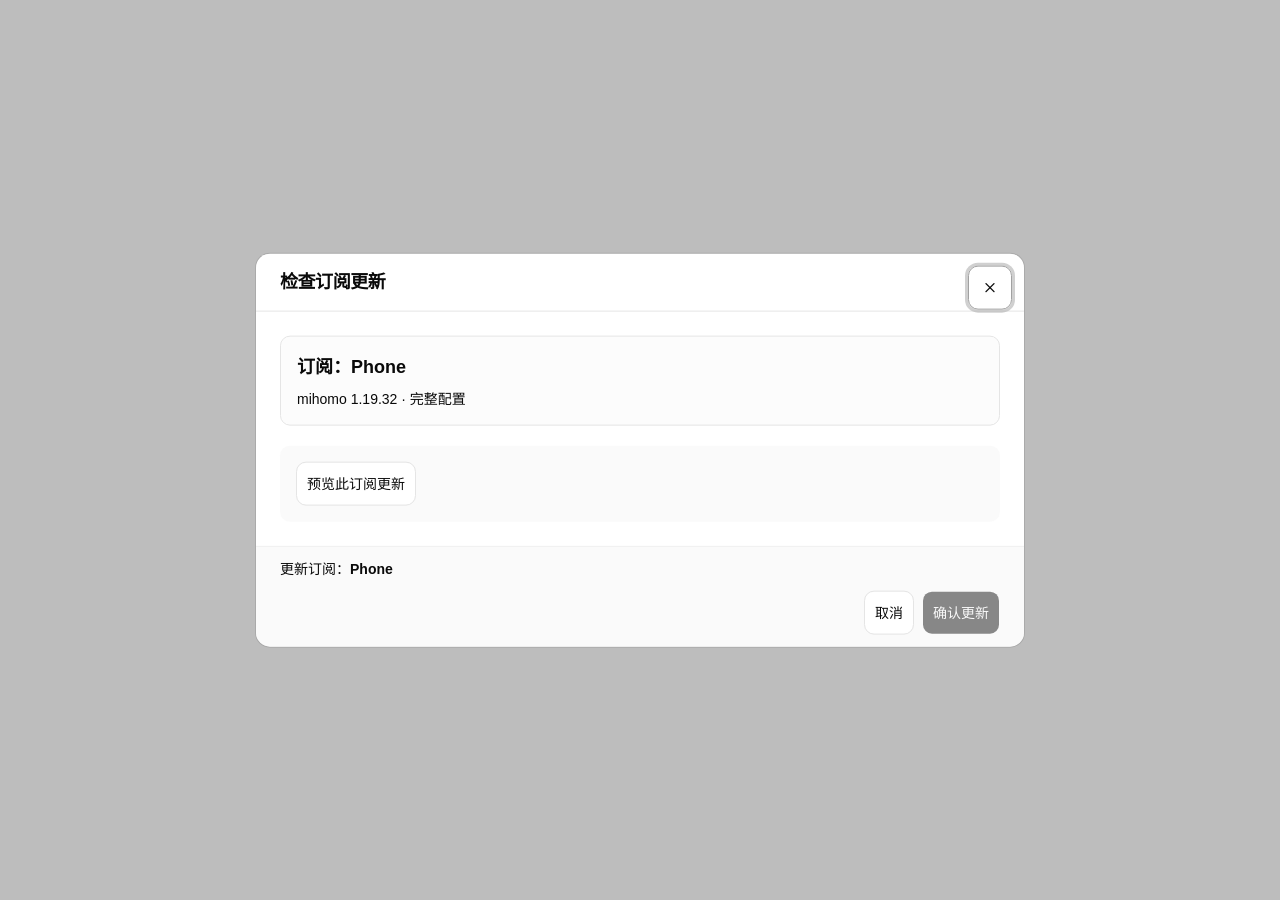
Test case: does not show source guidance for unavailable profile context
Click the button "预览此订阅更新": (356, 483) [296,461,416,505]
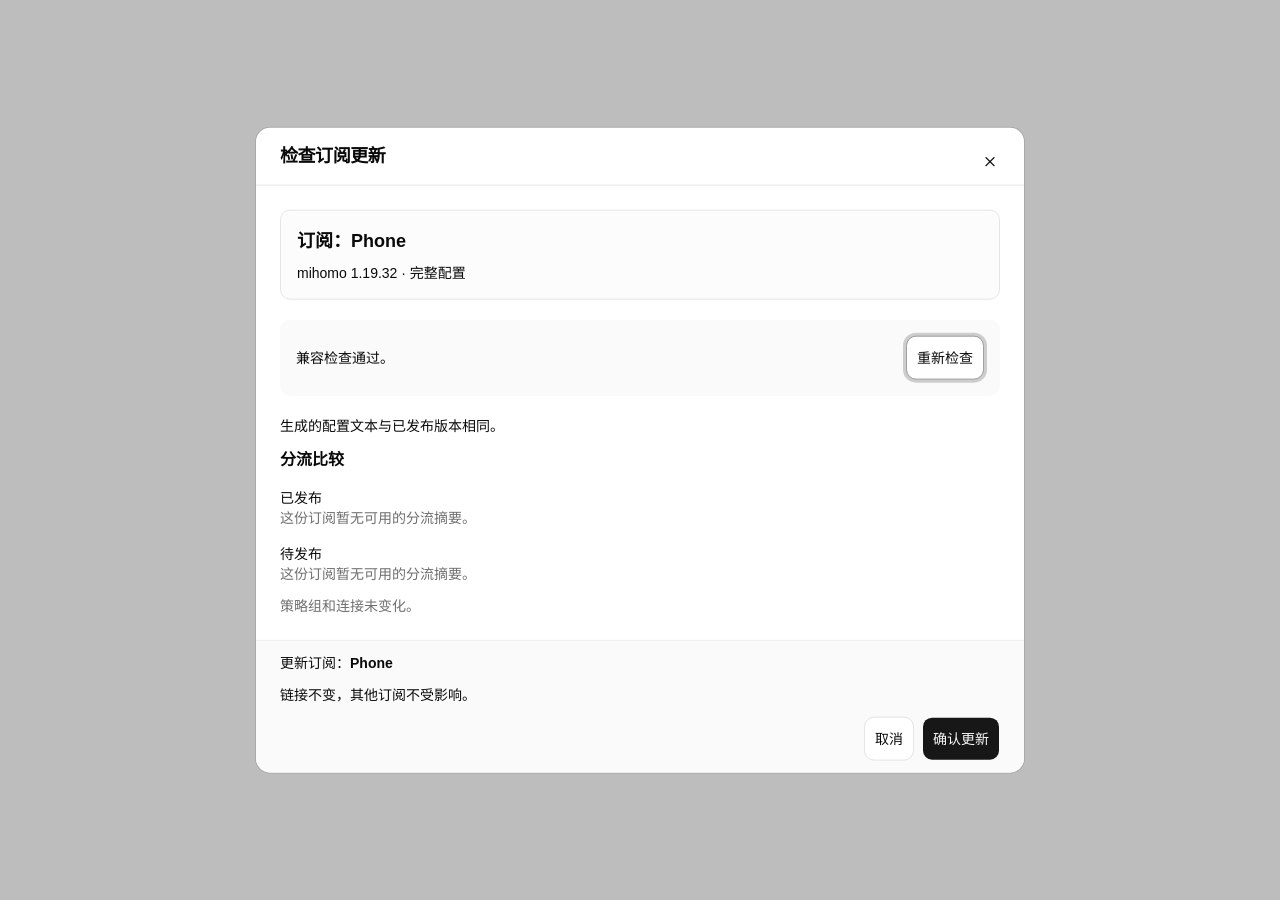
Expected: the text "兼容检查通过。" is shown, [296,347,394,367]
Expected: the text "生成的配置文本与已发布版本相同。" is shown, [280,417,504,433]
